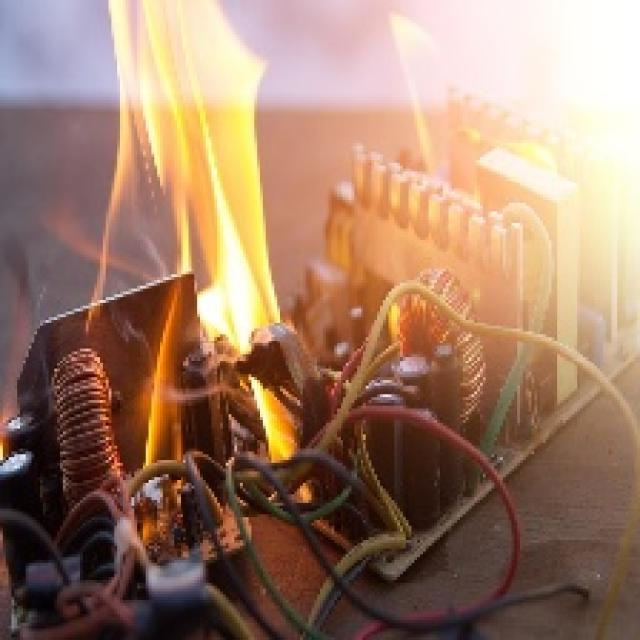Fire: (82, 0, 301, 475)
